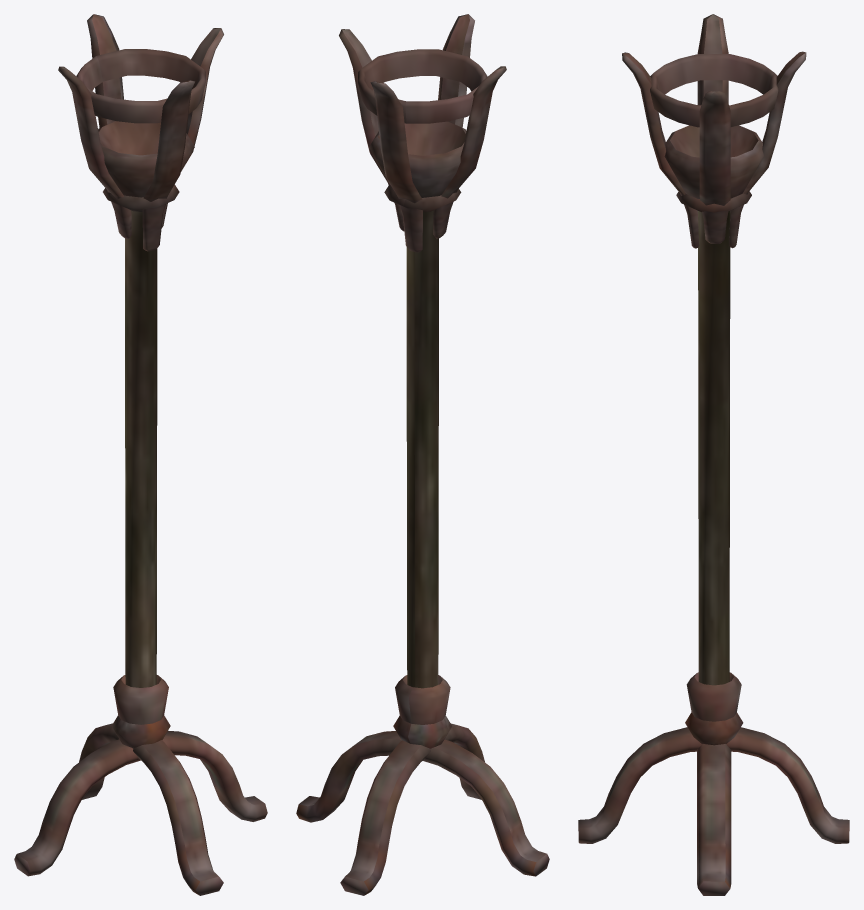
The model's file is comfort_t1_illuminationfloor_standingtorch.glb.
3 renders of one model, left to right at view 1: azimuth 30°, elevation 25°; view 2: azimuth 150°, elevation 25°; view 3: azimuth 270°, elevation 25°, orthographic.
Parts seen in each view (by area): view 1: global_props_torch_02_a; view 2: global_props_torch_02_a; view 3: global_props_torch_02_a.
Boxes of the visible parts, left/top/right/bottom form: global_props_torch_02_a: left=14, top=14, right=267, bottom=895; global_props_torch_02_a: left=296, top=14, right=549, bottom=895; global_props_torch_02_a: left=578, top=14, right=849, bottom=895.
Size of the model in its own units: 0.765 by 2.45 by 0.765.
2 materials, 2 textured.
